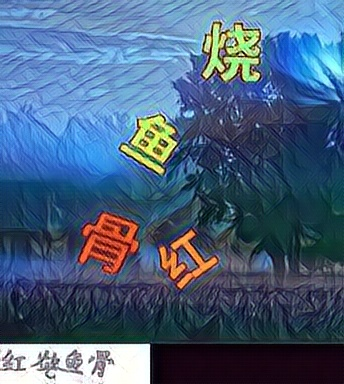B9C7: (73, 210, 138, 277)
BAEC: (154, 223, 219, 290)
C9D5: (201, 19, 266, 86)
D3E3: (116, 108, 181, 175)
